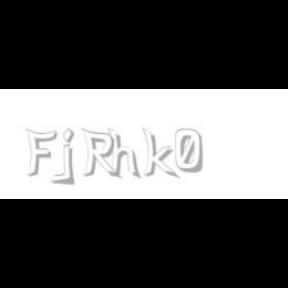0: (176, 128, 206, 174)
F: (25, 128, 57, 178)
R: (81, 128, 119, 180)
h: (108, 128, 142, 180)
j: (60, 128, 88, 186)
k: (142, 128, 180, 180)
